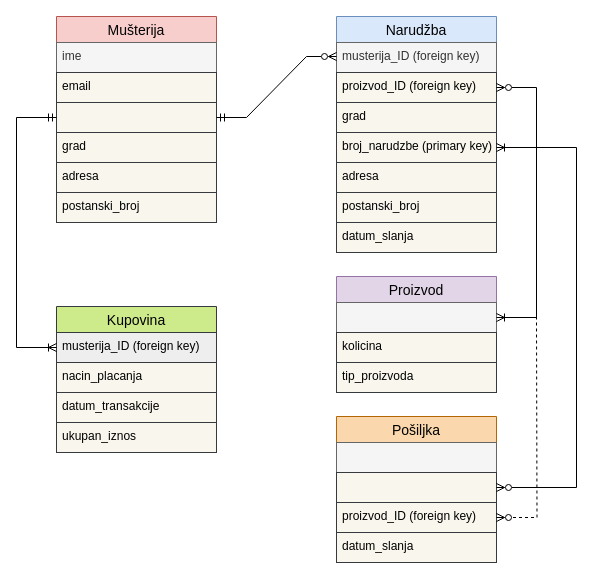
This 593x579 diagram has some shape labels left out. Here are the shapes that lost their labels. From the top down, the centre of each, then its label:
pixel 136 117: musterija_ID (primary key)
pixel 416 317: proizvod_ID (primary key)
pixel 416 457: broj_posiljke (primary key)
pixel 416 487: broj_narudzbe (foreign key)
